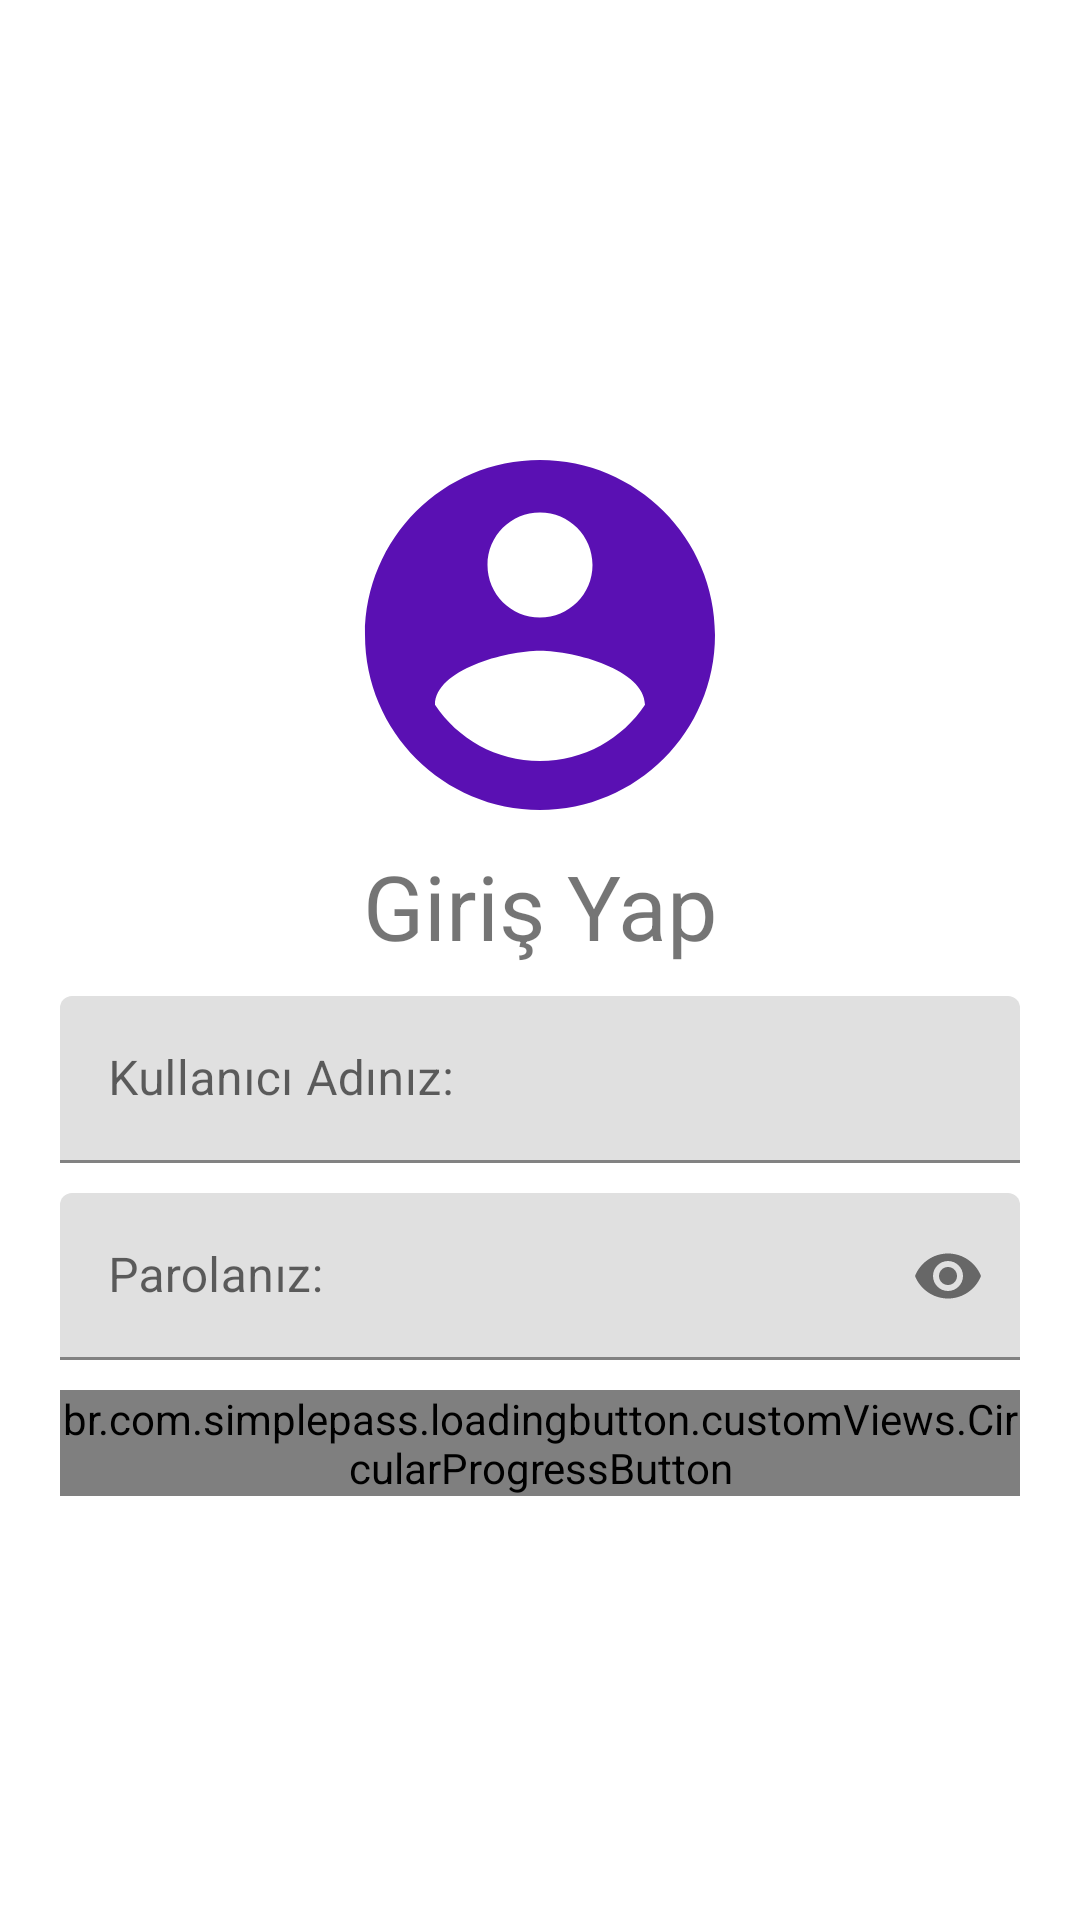

Where icons sit on this 1080px×1920px app screen, as (x1, y1, x2, y2):
account circle: (365, 460, 715, 810)
